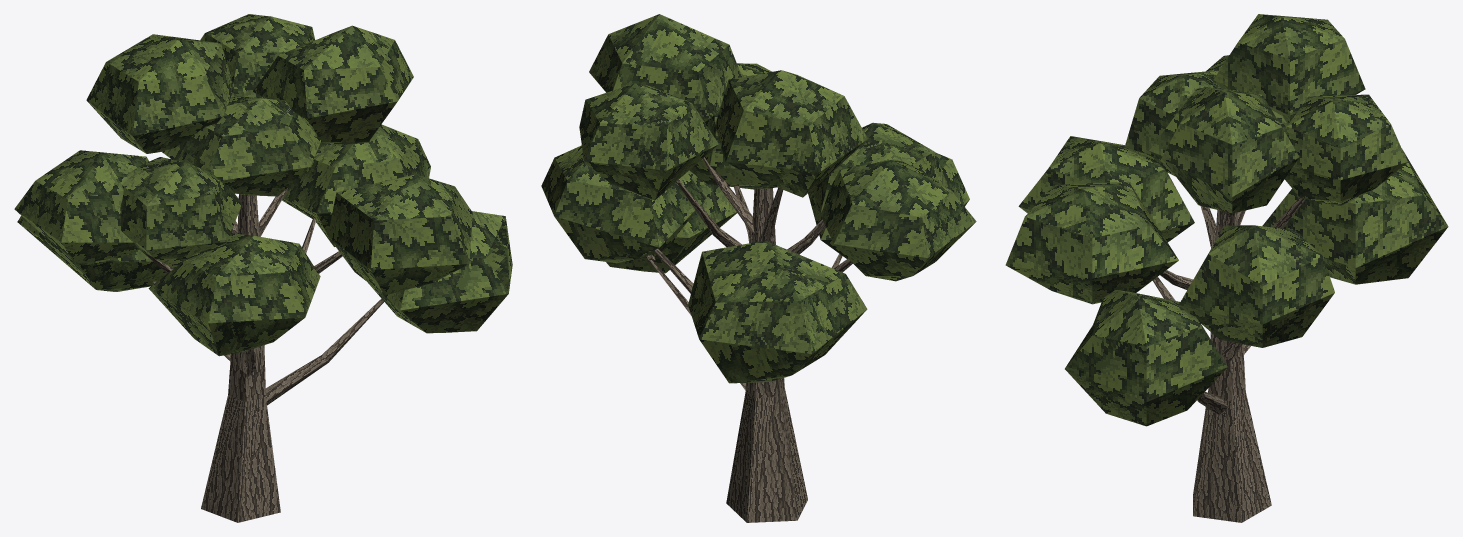
Rendered from TREE_Oak_B_LOD2.glb.
3 renders of one model, left to right at view 1: azimuth 30°, elevation 25°; view 2: azimuth 150°, elevation 25°; view 3: azimuth 270°, elevation 25°, orthographic. The views are drawn at different scales.
Visible parts, largest first — view 1: TREE_Oak_B_LOD2__Foliage, TREE_Oak_B_LOD2__Bark; view 2: TREE_Oak_B_LOD2__Foliage, TREE_Oak_B_LOD2__Bark; view 3: TREE_Oak_B_LOD2__Foliage, TREE_Oak_B_LOD2__Bark.
Part boxes in pixels (<box>): TREE_Oak_B_LOD2__Foliage: <box>14,14,512,356</box>; TREE_Oak_B_LOD2__Bark: <box>141,187,383,522</box>; TREE_Oak_B_LOD2__Foliage: <box>541,14,976,383</box>; TREE_Oak_B_LOD2__Bark: <box>646,157,852,522</box>; TREE_Oak_B_LOD2__Foliage: <box>1005,14,1448,426</box>; TREE_Oak_B_LOD2__Bark: <box>1152,197,1305,522</box>.
Size of the model in its own units: 11.41 by 11.75 by 10.07.
2 materials, 2 textured.
